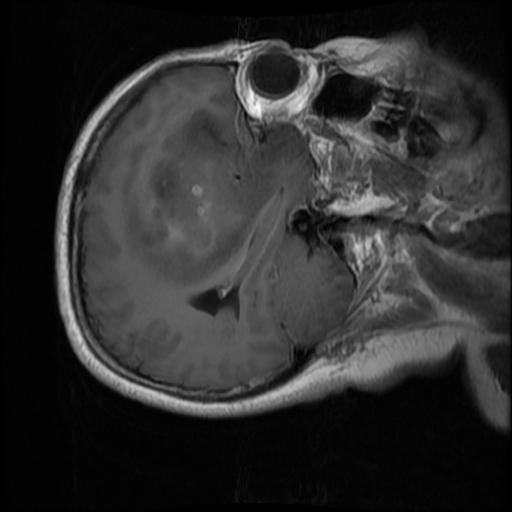glioma: (126, 110, 306, 284)
